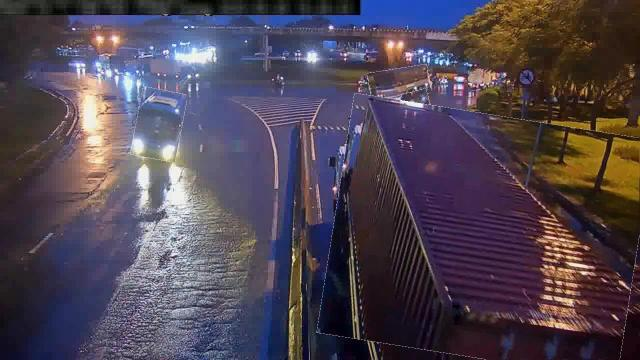Bus: (134, 88, 184, 160), (381, 92, 432, 126)
Truck: (325, 105, 639, 360), (369, 66, 431, 100)
